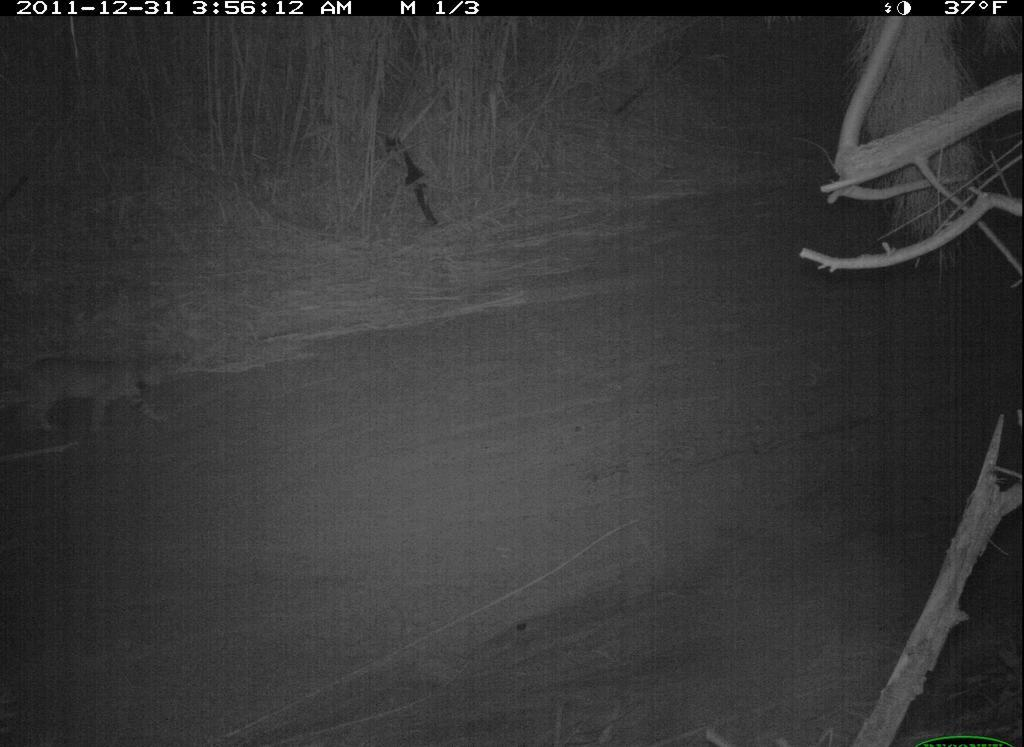bobcat: (3, 344, 177, 449)
